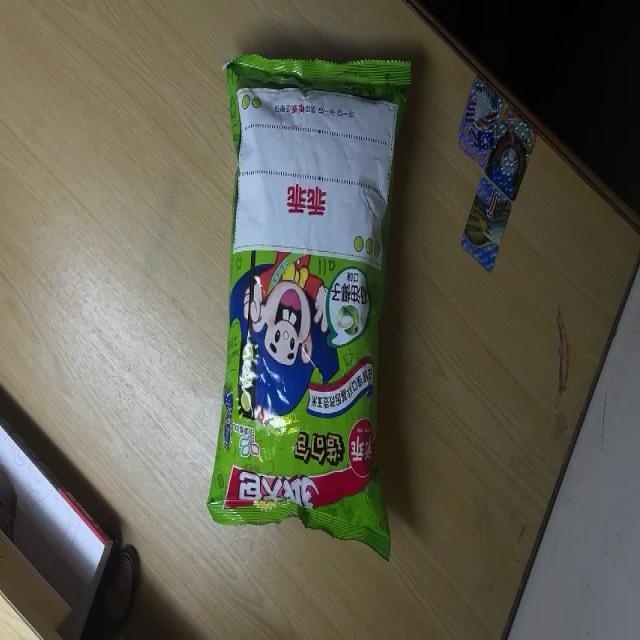Good-Luck: (207, 55, 411, 564)
